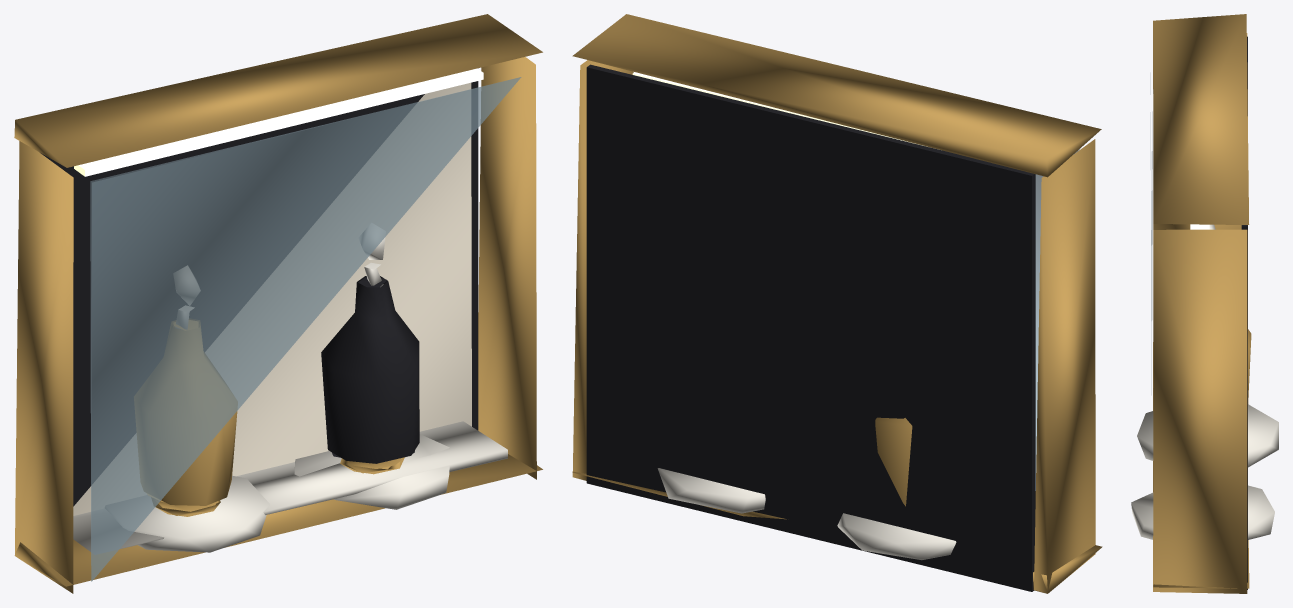
Rendered from lod_window_display_dress.glb.
The picture shows the model from 3 angles, left to right: view 1: azimuth 30°, elevation 25°; view 2: azimuth 150°, elevation 25°; view 3: azimuth 270°, elevation 25°; orthographic projection. The views are drawn at different scales.
Visible parts, largest first — view 1: window_display_dress; view 2: window_display_dress; view 3: window_display_dress.
Part boxes in pixels (box(x1,y1,x2,y2)): window_display_dress: box(14, 14, 542, 593); window_display_dress: box(572, 14, 1102, 593); window_display_dress: box(1131, 14, 1278, 593).
Size of the model in its own units: 2.99 by 2.62 by 0.9206.
